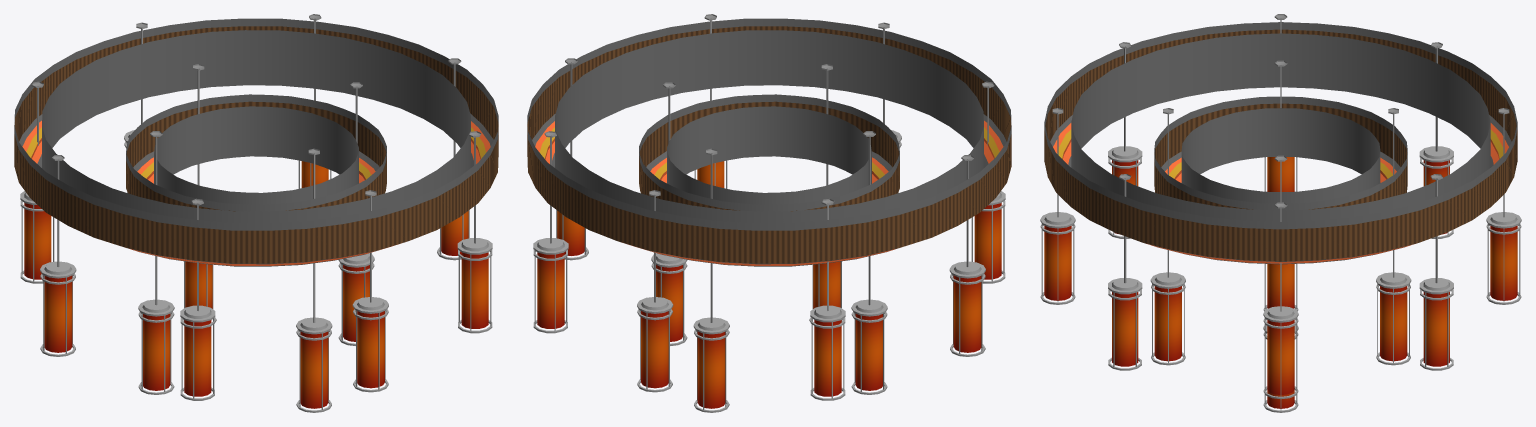
The model's file is mesh_lamp_02.fbx.
3 renders of one model, left to right at view 1: azimuth 30°, elevation 25°; view 2: azimuth 150°, elevation 25°; view 3: azimuth 270°, elevation 25°, orthographic. The views are drawn at different scales.
Visible parts, largest first — view 1: mesh_lamp_02; view 2: mesh_lamp_02; view 3: mesh_lamp_02.
Part boxes in pixels (box(x1,y1,x2,y2)): mesh_lamp_02: box(14, 14, 498, 412); mesh_lamp_02: box(527, 14, 1011, 412); mesh_lamp_02: box(1040, 14, 1521, 412).
Bounding box in the file's own units: 4.74 × 4.74 × 2.69.
1 material, 1 textured.
